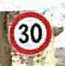limite 30: (6, 10, 52, 56)
